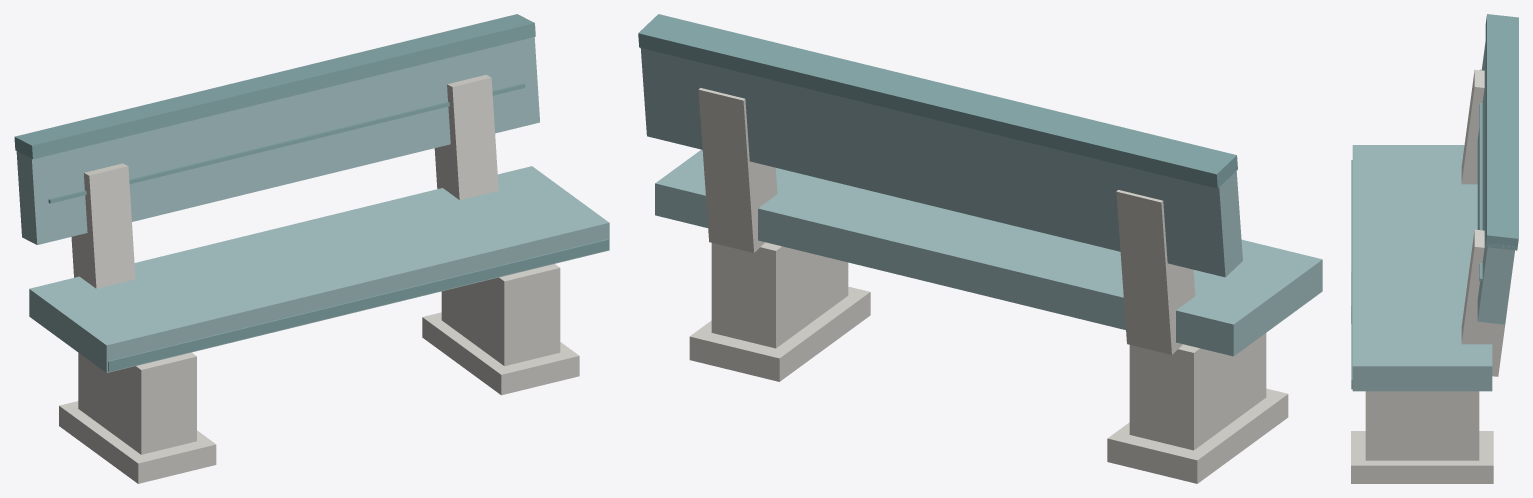
The model's file is kien_an_stone_bench_colored.glb.
The picture shows the model from 3 angles, left to right: view 1: azimuth 30°, elevation 25°; view 2: azimuth 150°, elevation 25°; view 3: azimuth 270°, elevation 25°; orthographic projection. The views are drawn at different scales.
Visible parts, largest first — view 1: Seat, Backrest, BackrestTopEdge, LeftConcreteLeg, RightConcreteLeg, LeftBackSupport, RightBackSupport, SeatFrontEdge, RightFoot, LeftFoot, BackrestGroove; view 2: Backrest, Seat, BackrestTopEdge, LeftConcreteLeg, RightConcreteLeg, LeftBackSupport, RightBackSupport, LeftFoot, RightFoot; view 3: Seat, RightConcreteLeg, BackrestTopEdge, RightFoot, Backrest, RightBackSupport, LeftBackSupport, BackrestGroove, SeatFrontEdge.
Boxes of the visible parts, x1,y1,x2,y2 form: Seat: (29, 166, 609, 372); Backrest: (16, 37, 539, 244); BackrestTopEdge: (14, 14, 535, 159); LeftConcreteLeg: (78, 352, 196, 454); RightConcreteLeg: (441, 264, 560, 366); LeftBackSupport: (71, 163, 135, 288); RightBackSupport: (434, 75, 498, 200); SeatFrontEdge: (108, 239, 608, 371); RightFoot: (422, 312, 579, 395); LeftFoot: (59, 401, 216, 483); BackrestGroove: (48, 83, 525, 203); Backrest: (640, 48, 1242, 277); Seat: (655, 149, 1322, 356); BackrestTopEdge: (638, 14, 1237, 188); LeftConcreteLeg: (1129, 333, 1266, 450); RightConcreteLeg: (711, 242, 848, 348); LeftBackSupport: (1116, 190, 1195, 354); RightBackSupport: (698, 88, 777, 252); LeftFoot: (1107, 388, 1288, 483); RightFoot: (689, 286, 870, 381); Seat: (1352, 145, 1492, 391); RightConcreteLeg: (1365, 391, 1479, 460); BackrestTopEdge: (1485, 14, 1518, 250); RightFoot: (1351, 431, 1493, 483); Backrest: (1477, 42, 1515, 324); RightBackSupport: (1461, 229, 1514, 376); LeftBackSupport: (1461, 69, 1484, 184); BackrestGroove: (1479, 69, 1482, 281); SeatFrontEdge: (1351, 160, 1352, 389).
Size of the model in its own units: 1.8 by 0.9939 by 0.5763.
